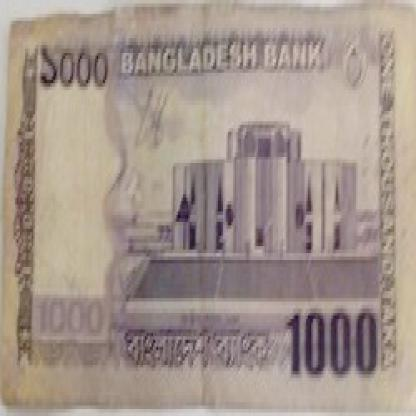One Thousand taka: (286, 309, 380, 382), (37, 42, 113, 97), (34, 291, 112, 340)
